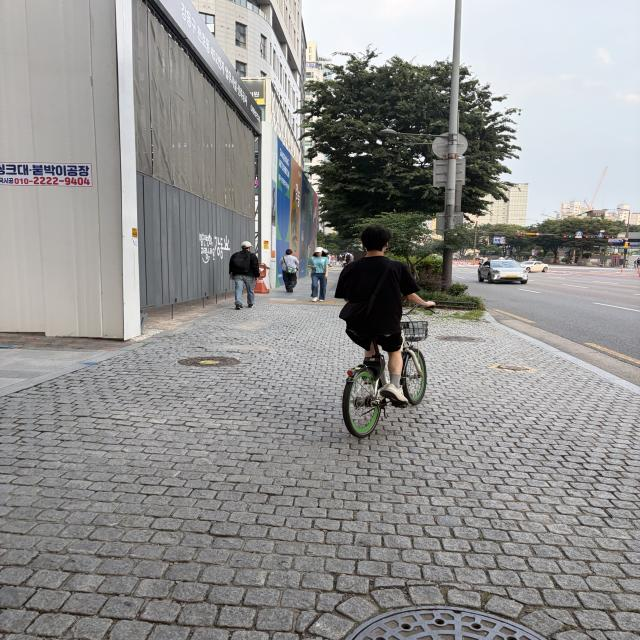bicycle: (311, 197, 458, 456)
